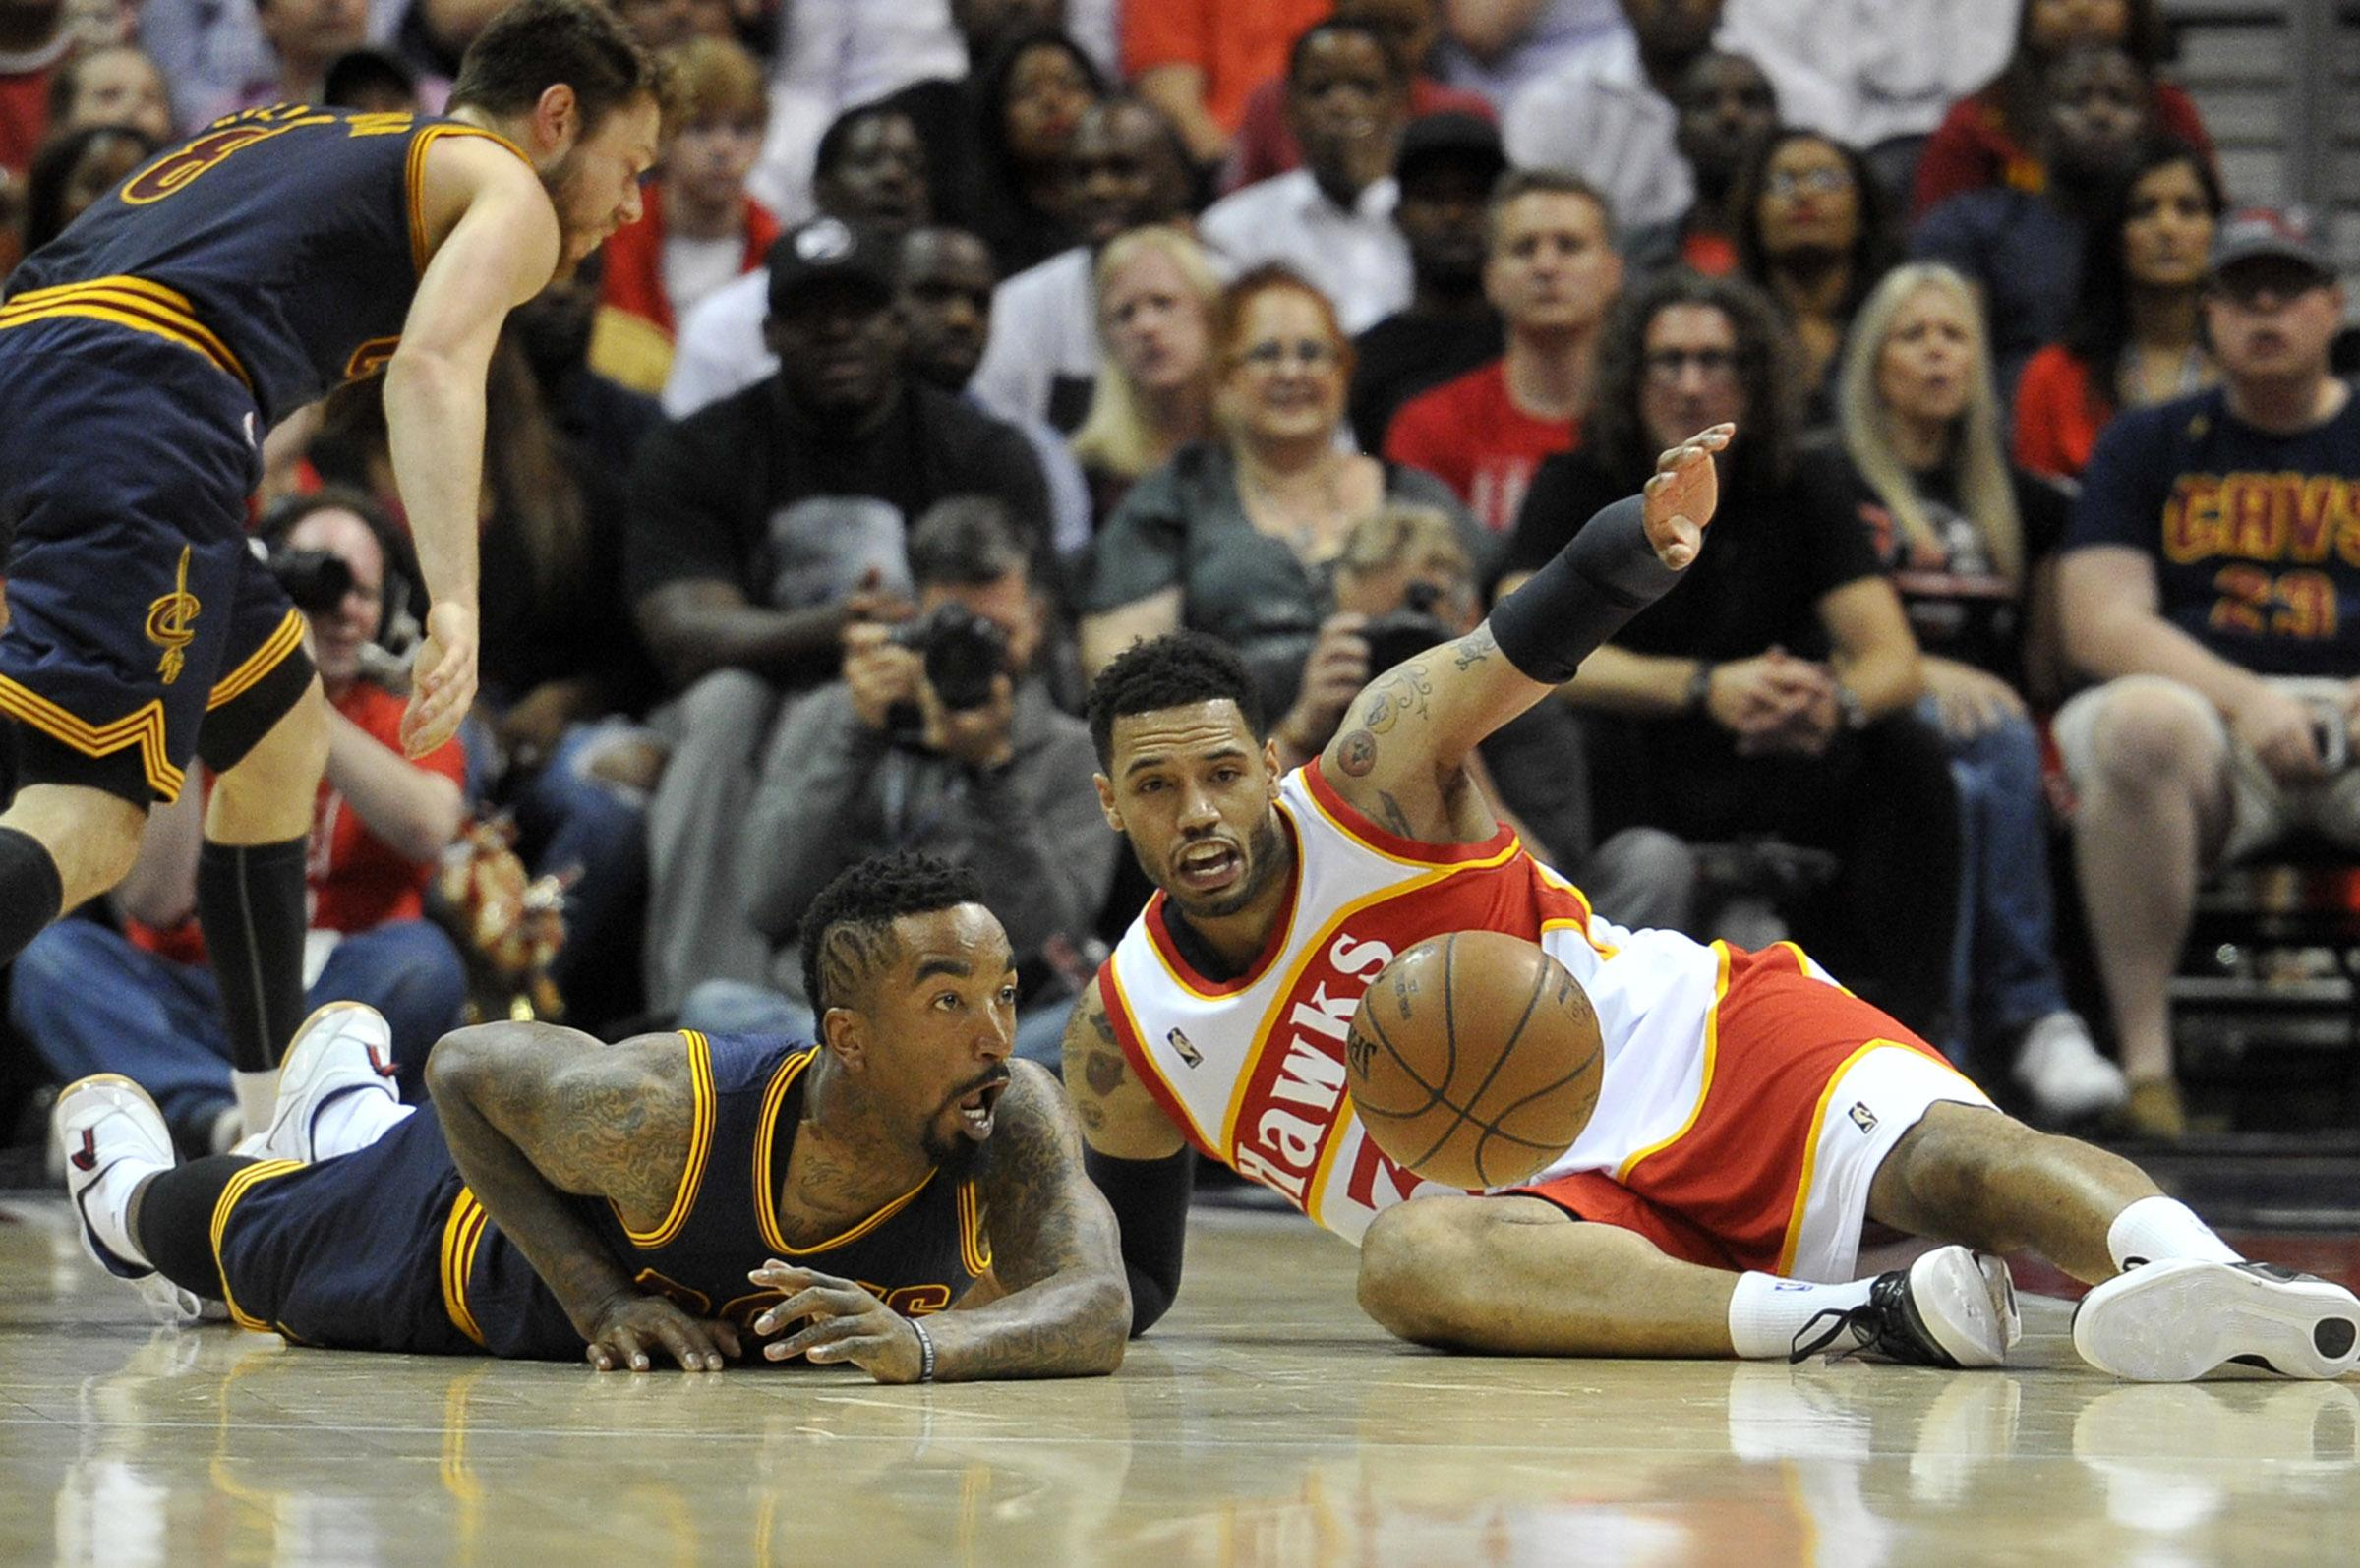bending: (2, 2, 686, 1141)
down: (889, 383, 2360, 1407), (46, 843, 1161, 1416)
